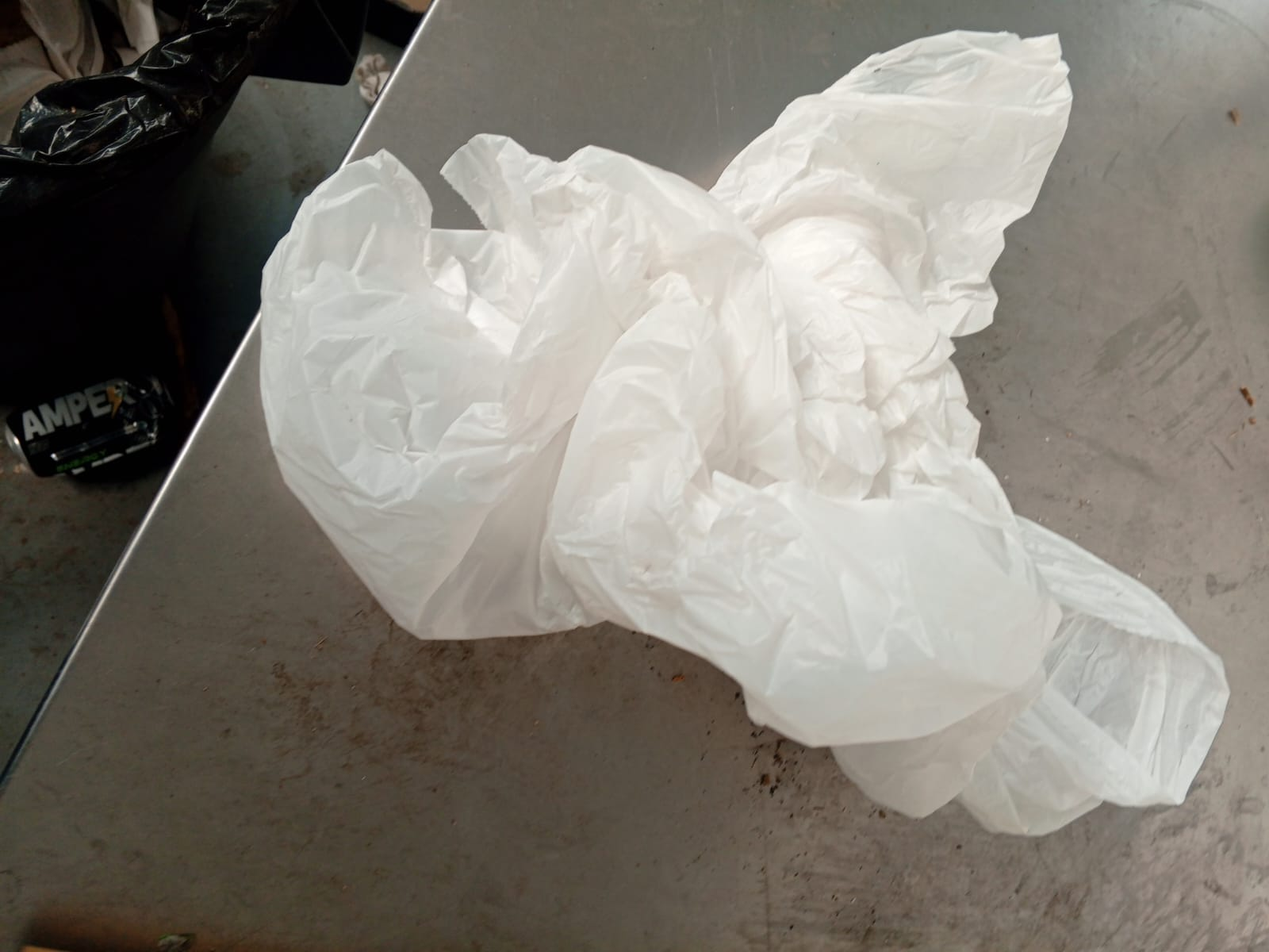Plastico: (260, 31, 1229, 835)
